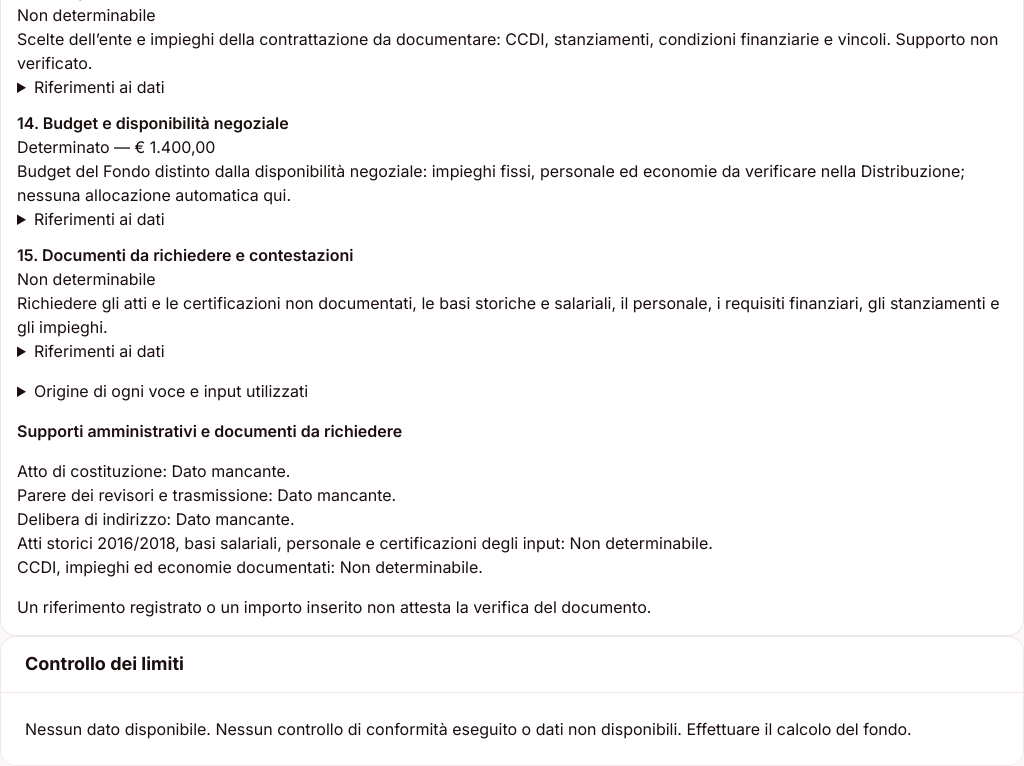
UX01 reachable Verifica consultation › real registry exposes all 15 answers and canonical 1400, with missing support explicit
This screenshot has width=1024, height=766.
(page scrolled)
Expected: the list item "Atto di costituzione: Dato mancante." is shown, [17,461,290,481]
Click the heading "Origine di ogni voce e input utilizzati".
click(171, 391)  # box [34,381,308,401]
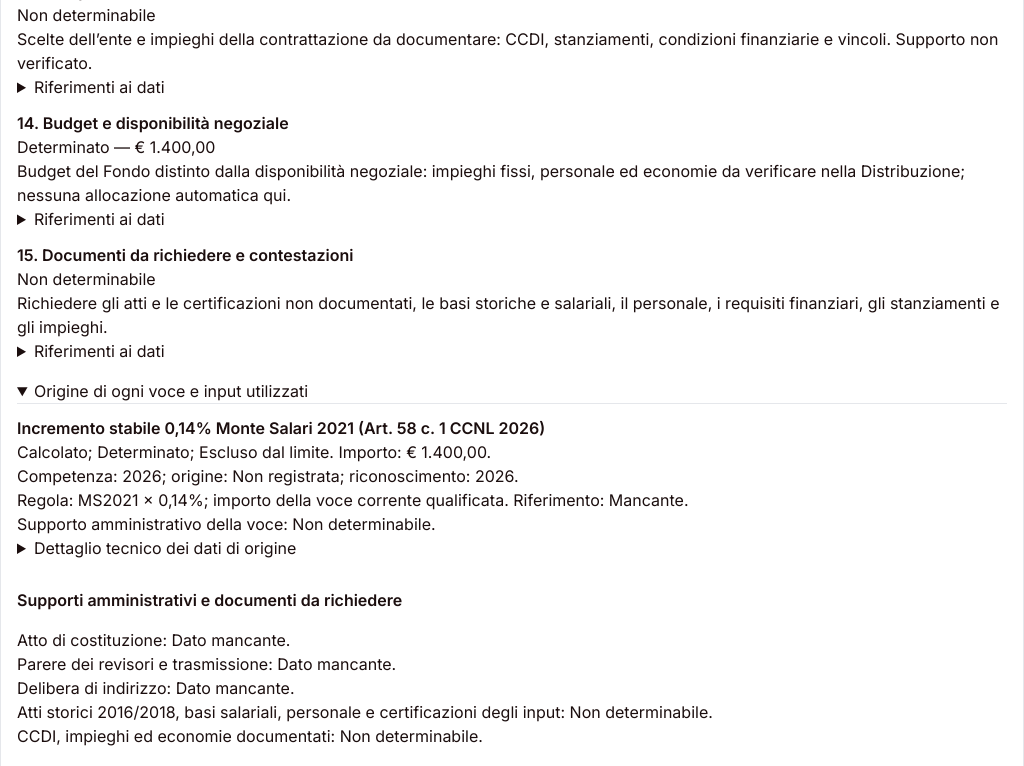
Expected: the text "Calcolato" is shown, [17,442,88,462]
Expected: the text "Escluso dal limite" is shown, [199,442,329,462]
